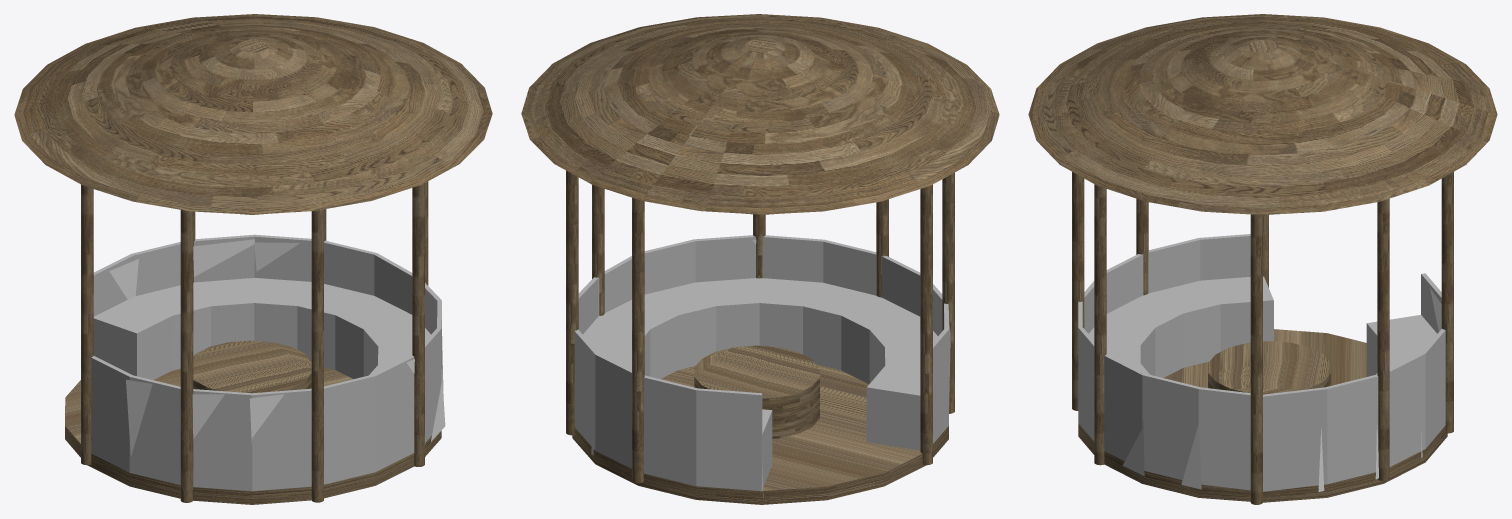
Rendered from gazebo_with_colliders.fbx.
3 renders of one model, left to right at view 1: azimuth 30°, elevation 25°; view 2: azimuth 150°, elevation 25°; view 3: azimuth 270°, elevation 25°, orthographic.
Parts seen in each view (by area): view 1: Cone001, Line001, Line002, Cylinder001, Cylinder010, Cylinder004, Cylinder003, Cylinder002, Cylinder005, Plane.009, Plane.001, Plane.002 (+3 smaller); view 2: Cone001, Line001, Line002, Cylinder001, Cylinder010, Cylinder005, Cylinder006, Cylinder007, Cylinder004, Cylinder008, Cylinder003, Cylinder002; view 3: Cone001, Line002, Line001, Cylinder001, Cylinder010, Cylinder008, Cylinder007, Cylinder002, Cylinder006, Cylinder003, Cylinder004, Plane.007 (+1 smaller).
Boxes of the visible parts, x1,y1,x2,y2 form: Cone001: (14, 14, 492, 214); Line001: (91, 278, 441, 490); Line002: (91, 234, 441, 491); Cylinder001: (65, 367, 441, 504); Cylinder010: (193, 340, 311, 393); Cylinder004: (180, 210, 193, 502); Cylinder003: (311, 209, 323, 502); Cylinder002: (412, 183, 424, 466); Cylinder005: (81, 184, 93, 465); Plane.009: (193, 239, 254, 276); Plane.001: (126, 379, 152, 456); Plane.002: (192, 394, 249, 438); Cone001: (521, 14, 999, 214); Line001: (574, 278, 948, 491); Line002: (574, 235, 948, 490); Cylinder001: (572, 364, 948, 504); Cylinder010: (694, 345, 819, 438); Cylinder005: (920, 184, 932, 465); Cylinder006: (632, 197, 644, 482); Cylinder007: (566, 170, 578, 435); Cylinder004: (942, 172, 954, 413); Cylinder008: (592, 185, 604, 315); Cylinder003: (876, 199, 888, 297); Cylinder002: (753, 214, 765, 278); Cone001: (1028, 14, 1497, 214); Line002: (1078, 234, 1445, 491); Line001: (1078, 276, 1445, 488); Cylinder001: (1078, 329, 1447, 502); Cylinder010: (1208, 341, 1331, 394); Cylinder008: (1250, 214, 1262, 504); Cylinder007: (1377, 198, 1389, 481); Cylinder002: (1094, 184, 1106, 465); Cylinder006: (1441, 172, 1453, 433); Cylinder003: (1072, 172, 1084, 410); Cylinder004: (1136, 198, 1148, 295); Plane.007: (1181, 423, 1201, 489).
Size of the model in its own units: 2218 by 1932 by 2186.
